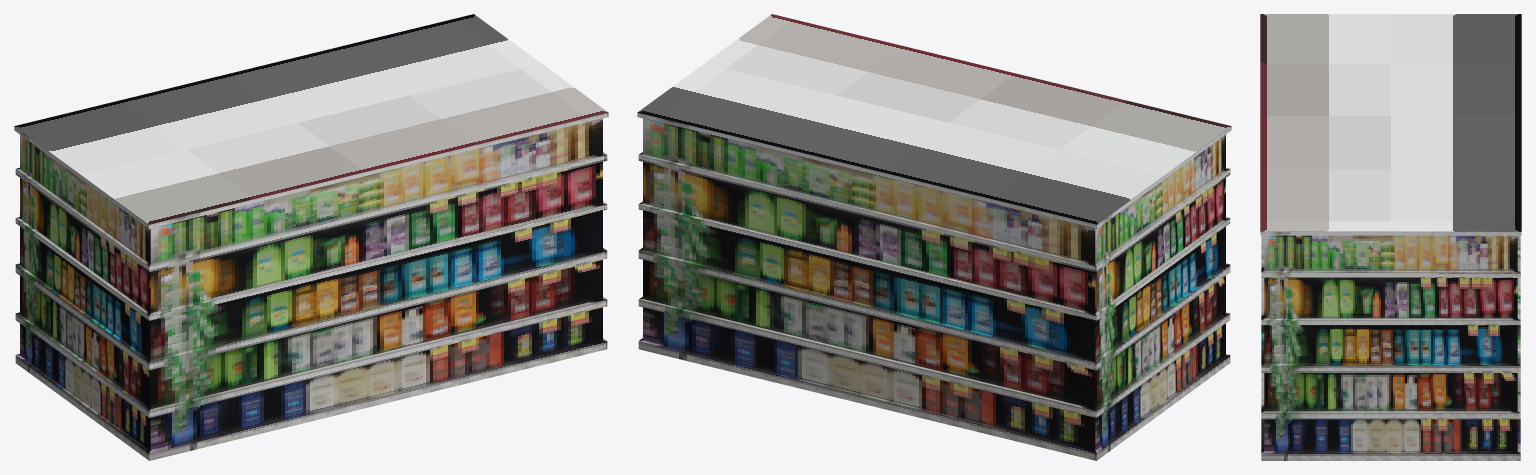
File: Shelf.glb
3 renders of one model, left to right at view 1: azimuth 30°, elevation 25°; view 2: azimuth 150°, elevation 25°; view 3: azimuth 270°, elevation 25°, orthographic. The views are drawn at different scales.
Visible parts, largest first — view 1: Shelf; view 2: Shelf; view 3: Shelf.
Boxes of the visible parts, x1=… form: Shelf: x1=14, y1=14, x2=608, y2=460; Shelf: x1=637, y1=14, x2=1231, y2=460; Shelf: x1=1260, y1=14, x2=1521, y2=460.
Size of the model in its own units: 4.06 by 2 by 2.06.
1 material, 1 textured.
